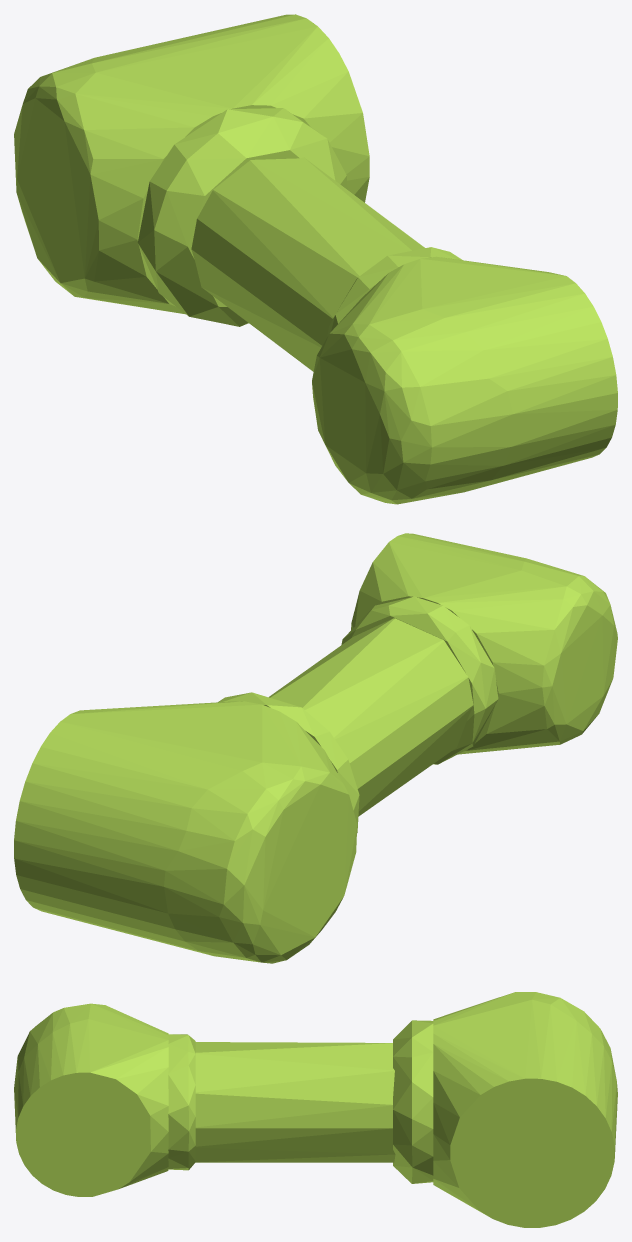
3 views of the same model, one above another, from view 1: azimuth 30°, elevation 25°; view 2: azimuth 150°, elevation 25°; view 3: azimuth 270°, elevation 25° (orthographic). The views are drawn at different scales.
Parts seen in each view (by area): view 1: Node_0000014D8EC09560 (×5); view 2: Node_0000014D8EC09560 (×5); view 3: Node_0000014D8EC09560 (×5).
Part boxes in pixels (left/top/right/bottom): Node_0000014D8EC09560 (×5): left=14, top=14, right=617, bottom=504; Node_0000014D8EC09560 (×5): left=14, top=533, right=617, bottom=963; Node_0000014D8EC09560 (×5): left=14, top=992, right=617, bottom=1227.
Bounding box in the file's own units: 0.1231 × 0.092 × 0.3286.
